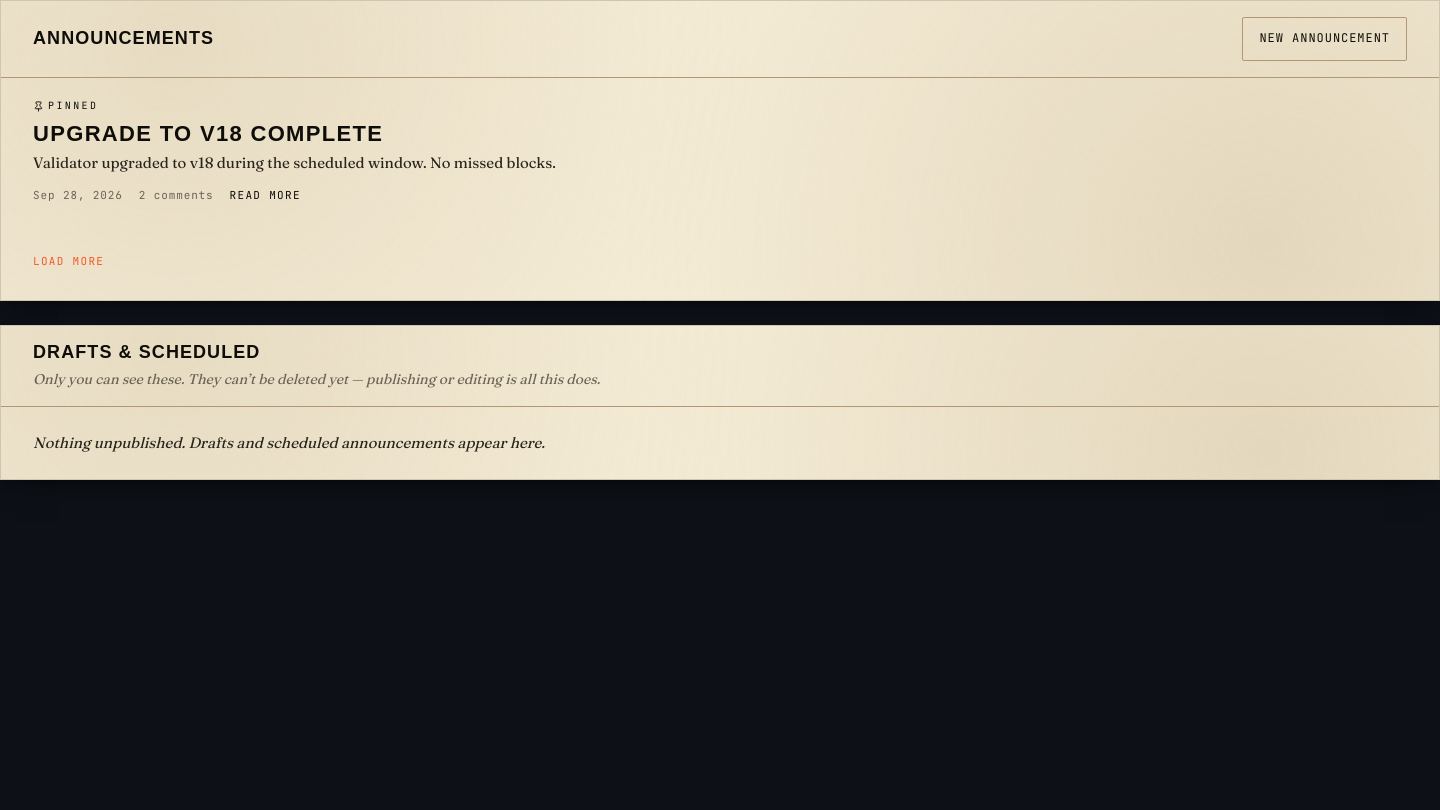
Test: a failed LOAD MORE never discards the loaded list › retries the SAME cursor rather than skipping the failed page
Expected: the link "Upgrade to v18 complete" is shown, [33,121,383,146]
Click the button "LOAD MORE": (69, 262) [33,240,104,284]
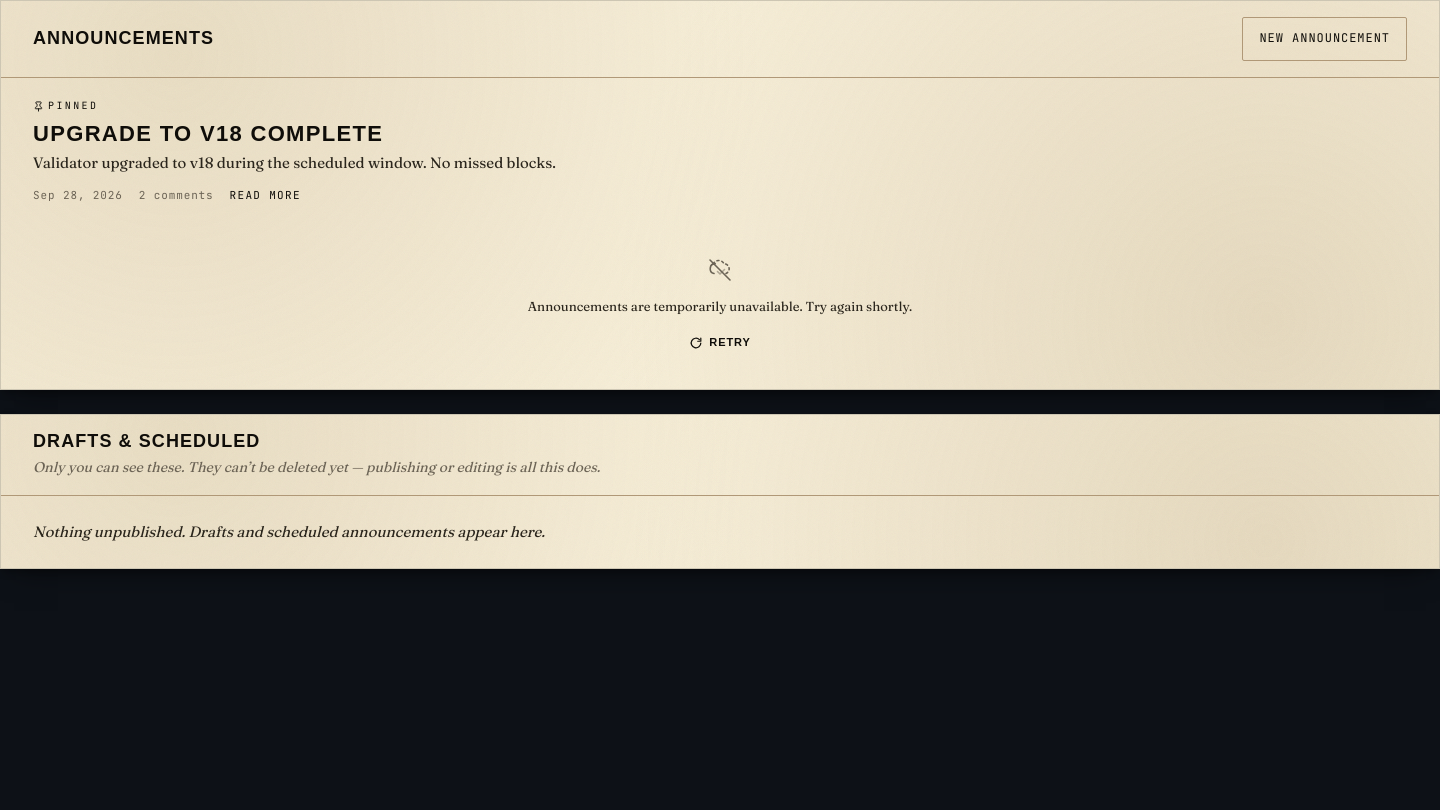
Now the button "Retry" is shown
Click the button "Retry": (720, 343) [677,329,763,357]
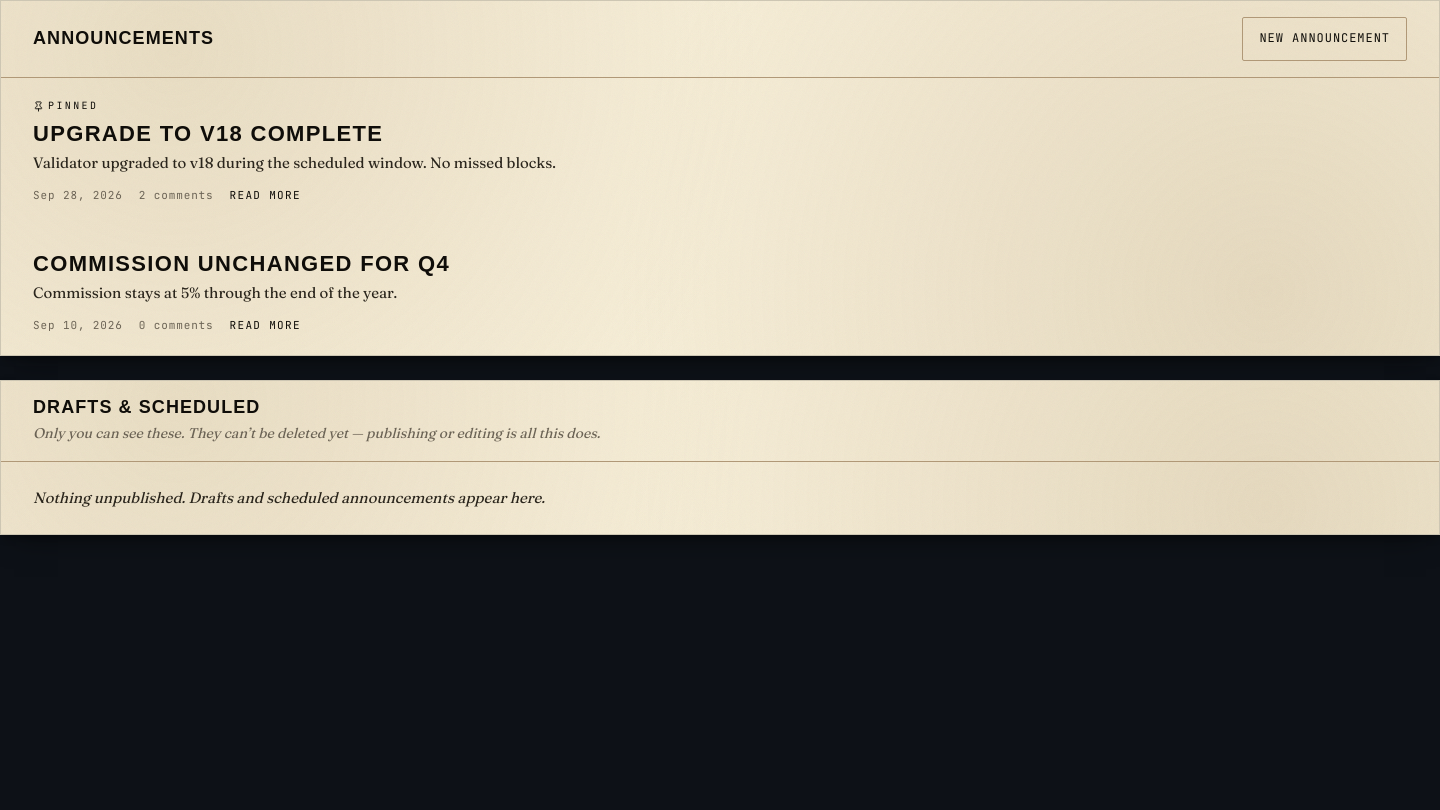
Expected: the link "Upgrade to v18 complete" is shown, [33,121,383,146]
Now the link "Commission unchanged for Q4" is shown, box [33,251,450,276]
